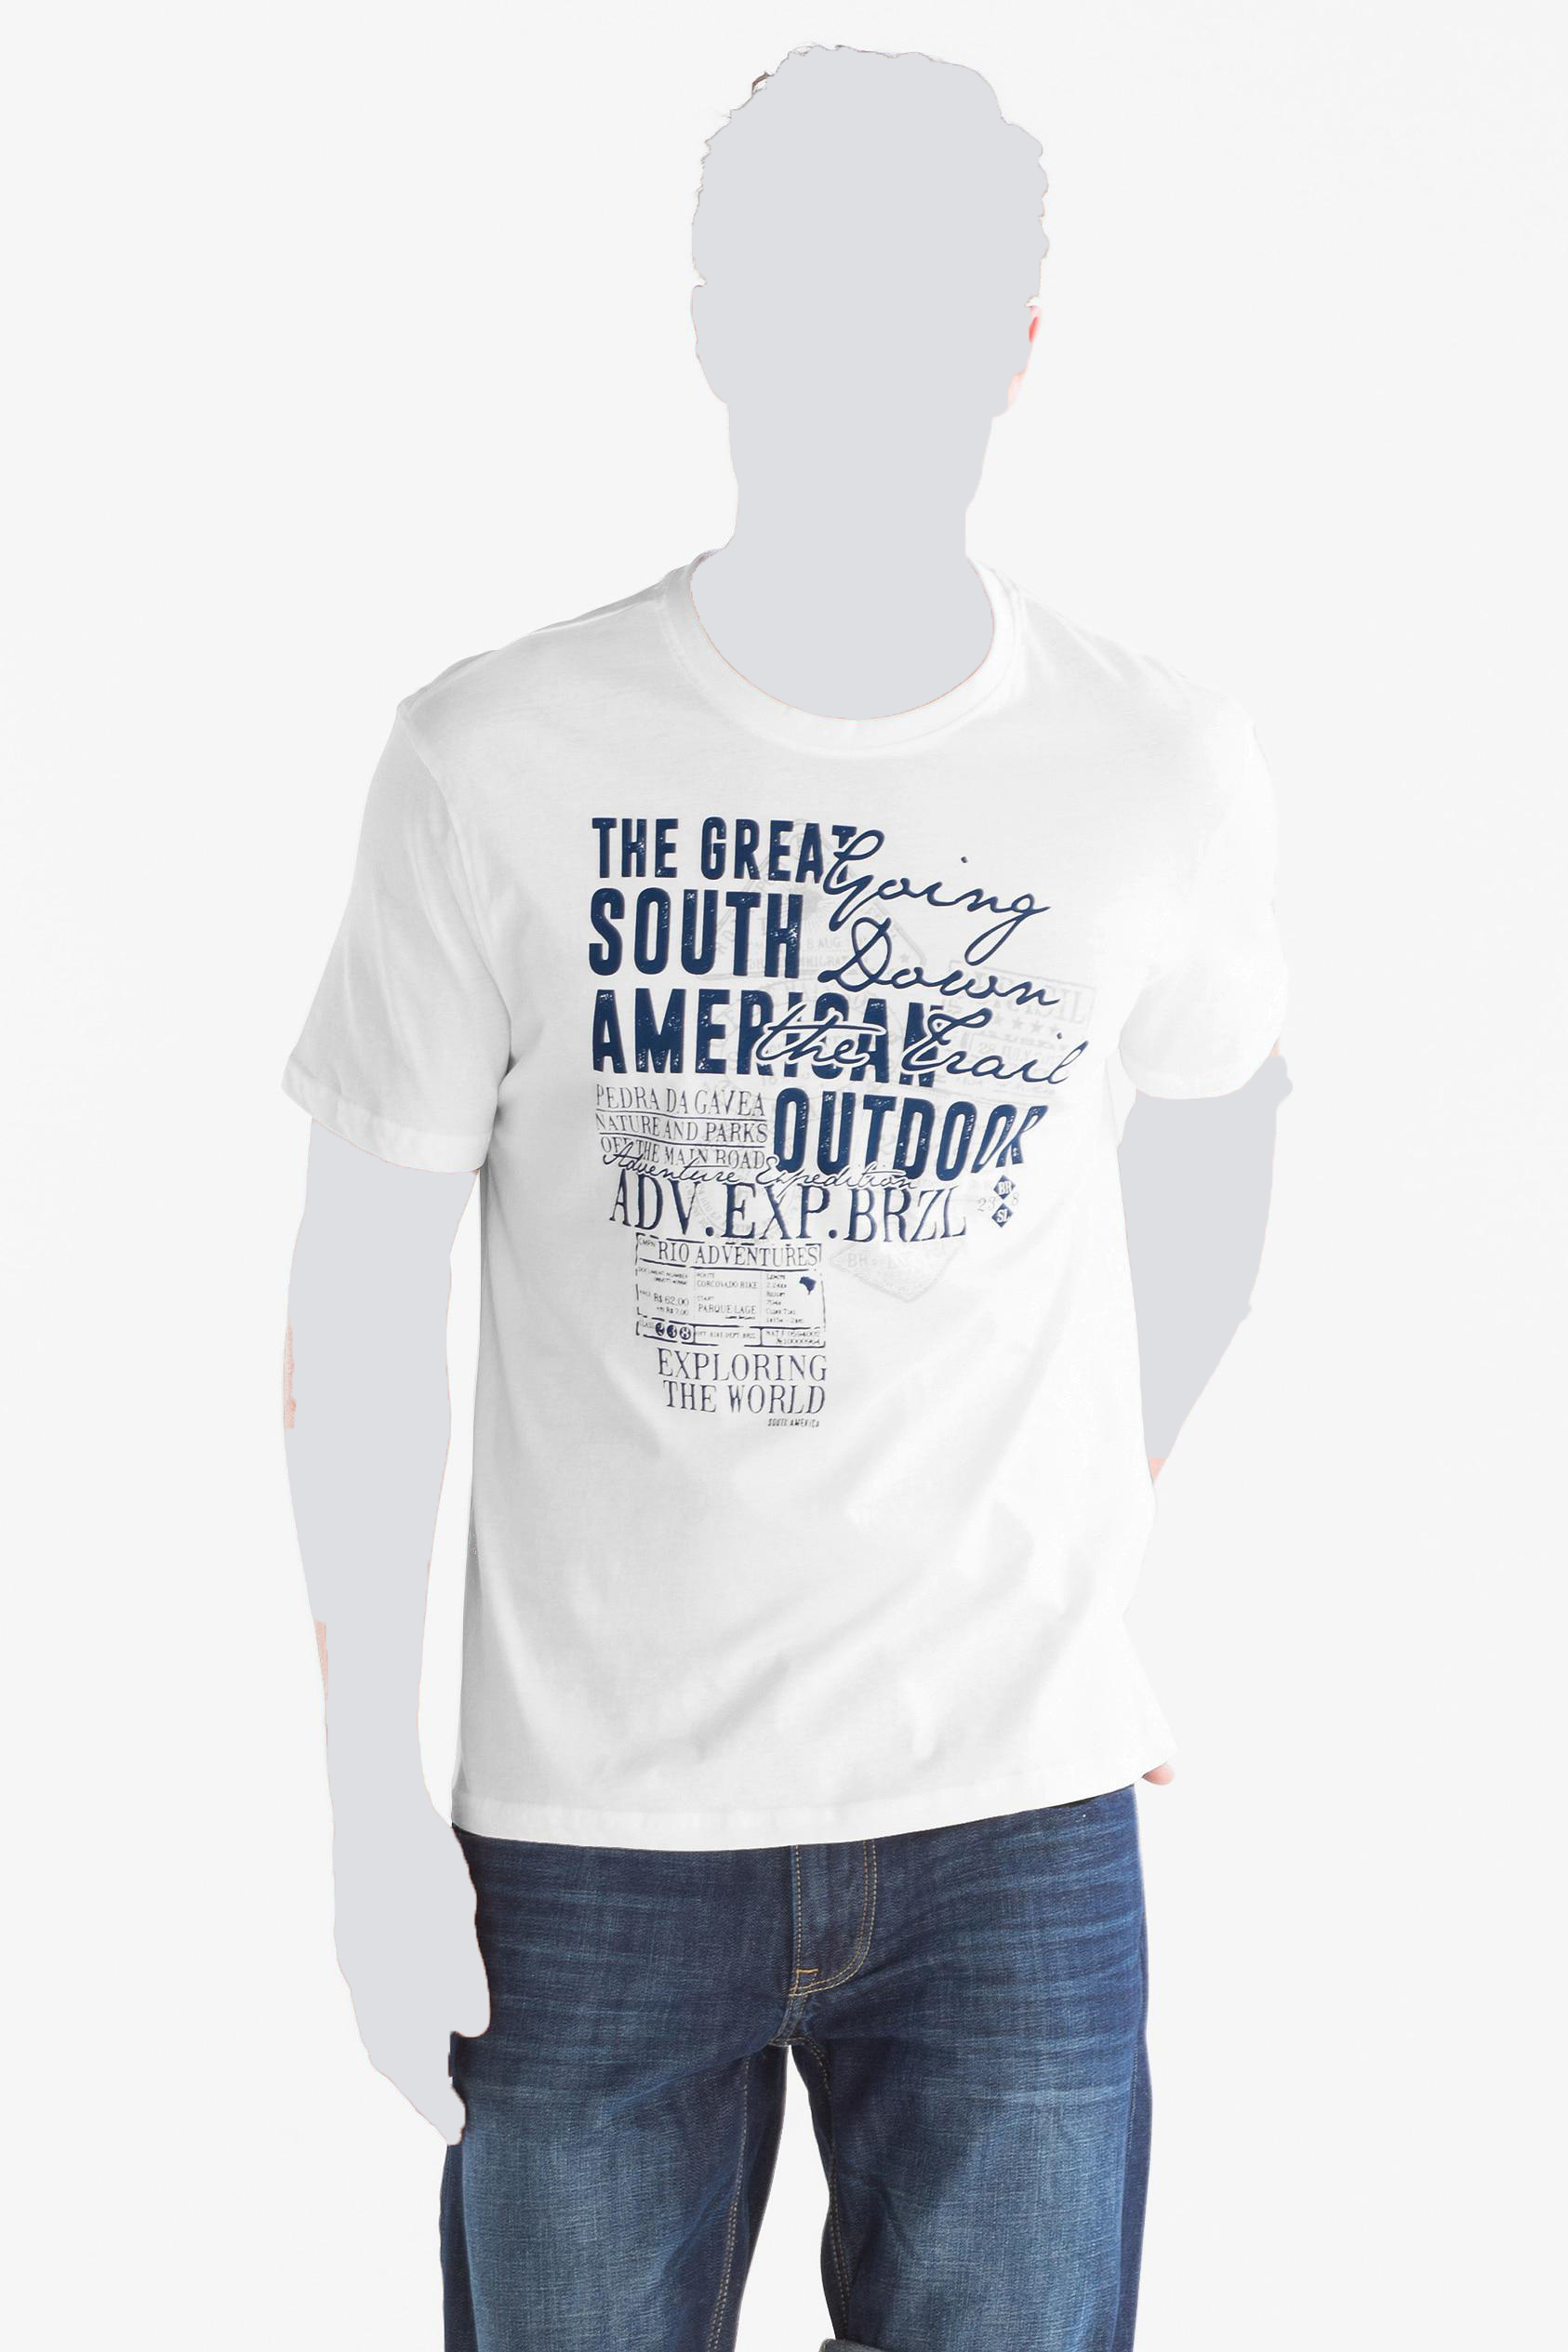teeshirt: (289, 522, 1393, 1872)
